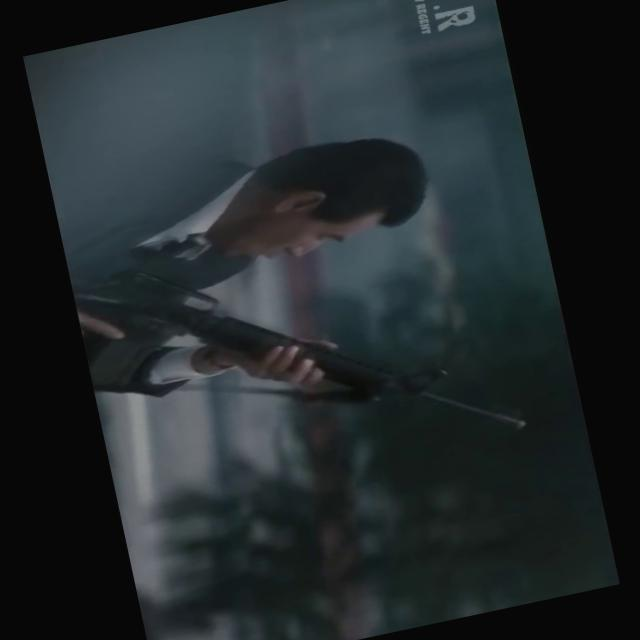long weapon: (62, 162, 573, 546)
